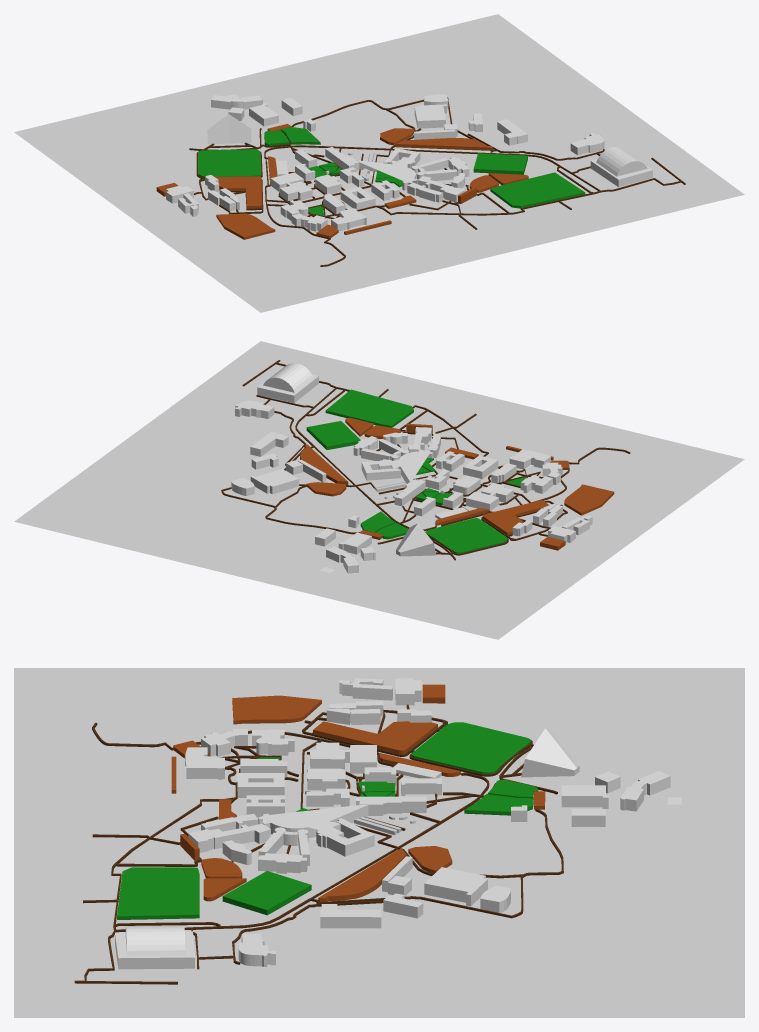
The picture shows the model from 3 angles, top to bottom: view 1: azimuth 30°, elevation 25°; view 2: azimuth 150°, elevation 25°; view 3: azimuth 270°, elevation 25°; orthographic projection. The views are drawn at different scales.
Parts seen in each view (by area): view 1: Plane.003, PATH_All, FIELD_Erenchun_Football, FIELD_Bellarmine, BLDG_Blue_Eagle_Gym, FIELD_Ocampo_Football, BLDG_Gesu, CARPARK_NorthWest, CARPARK_NorthEast, CARPARK_North, AREA_SEC_Walk, BLDG_Old_Rizal_Faber_Hall (+9 smaller); view 2: Plane.003, PATH_All, FIELD_Erenchun_Football, FIELD_Bellarmine, BLDG_Blue_Eagle_Gym, FIELD_Ocampo_Football, CARPARK_NorthWest, CARPARK_North, BLDG_Gesu, AREA_SEC_Walk, BLDG_Old_Rizal_Faber_Hall, AREA_CovCourts (+9 smaller); view 3: Plane.003, PATH_All, FIELD_Erenchun_Football, FIELD_Bellarmine, BLDG_Blue_Eagle_Gym, CARPARK_North, FIELD_Ocampo_Football, AREA_SEC_Walk, CARPARK_NorthWest, BLDG_Gesu, AREA_CovCourts, FIELD_Cervini (+29 smaller).
Boxes of the visible parts, bbox=[...] form: Plane.003: bbox=[14, 14, 744, 312]; PATH_All: bbox=[189, 97, 685, 266]; FIELD_Erenchun_Football: bbox=[490, 172, 585, 208]; FIELD_Bellarmine: bbox=[198, 149, 261, 177]; BLDG_Blue_Eagle_Gym: bbox=[590, 147, 652, 187]; FIELD_Ocampo_Football: bbox=[473, 153, 527, 174]; BLDG_Gesu: bbox=[207, 114, 251, 144]; CARPARK_NorthWest: bbox=[216, 213, 275, 239]; CARPARK_NorthEast: bbox=[396, 138, 493, 150]; CARPARK_North: bbox=[214, 176, 261, 208]; AREA_SEC_Walk: bbox=[357, 157, 424, 190]; BLDG_Old_Rizal_Faber_Hall: bbox=[270, 172, 312, 200]; Plane.003: bbox=[14, 341, 744, 639]; PATH_All: bbox=[221, 360, 630, 560]; FIELD_Erenchun_Football: bbox=[325, 389, 413, 427]; FIELD_Bellarmine: bbox=[426, 518, 507, 553]; BLDG_Blue_Eagle_Gym: bbox=[257, 363, 318, 402]; FIELD_Ocampo_Football: bbox=[306, 421, 360, 449]; CARPARK_NorthWest: bbox=[564, 484, 614, 515]; CARPARK_North: bbox=[482, 500, 549, 535]; BLDG_Gesu: bbox=[396, 523, 436, 556]; AREA_SEC_Walk: bbox=[378, 449, 433, 483]; BLDG_Old_Rizal_Faber_Hall: bbox=[466, 483, 513, 510]; AREA_CovCourts: bbox=[250, 469, 299, 494]; Plane.003: bbox=[14, 668, 744, 1017]; PATH_All: bbox=[74, 704, 563, 984]; FIELD_Erenchun_Football: bbox=[117, 867, 199, 919]; FIELD_Bellarmine: bbox=[411, 722, 530, 773]; BLDG_Blue_Eagle_Gym: bbox=[115, 925, 194, 969]; CARPARK_North: bbox=[313, 721, 437, 754]; FIELD_Ocampo_Football: bbox=[222, 871, 311, 915]; AREA_SEC_Walk: bbox=[258, 805, 368, 845]; CARPARK_NorthWest: bbox=[232, 695, 321, 724]; BLDG_Gesu: bbox=[521, 728, 579, 777]; AREA_CovCourts: bbox=[424, 867, 487, 906]; FIELD_Cervini: bbox=[464, 779, 538, 815].
Size of the model in its own units: 100 by 6.24 by 88.71.
